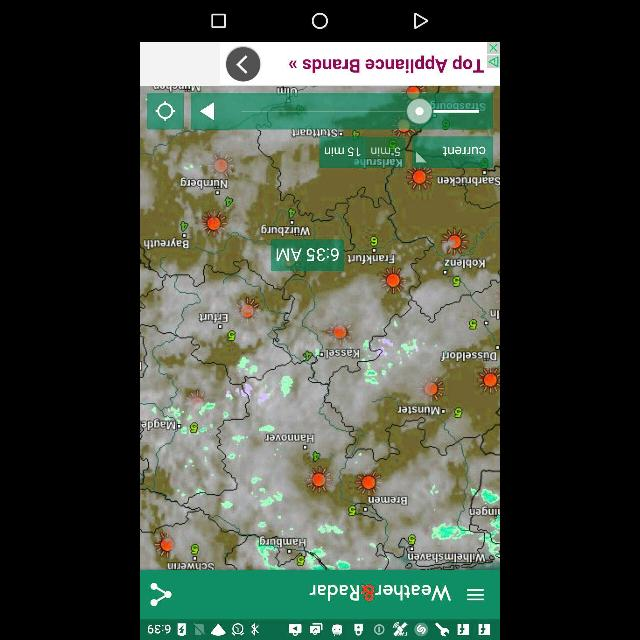icon: (149, 579, 171, 607), (466, 588, 484, 602), (312, 14, 328, 28), (414, 12, 426, 28), (212, 14, 225, 28)
iframe: (140, 41, 500, 85)
map: (140, 86, 500, 570)
panel: (140, 1, 500, 42)
text: (308, 582, 450, 604)
toolbar: (140, 572, 500, 620)
uppertaskbar: (142, 620, 500, 640)
